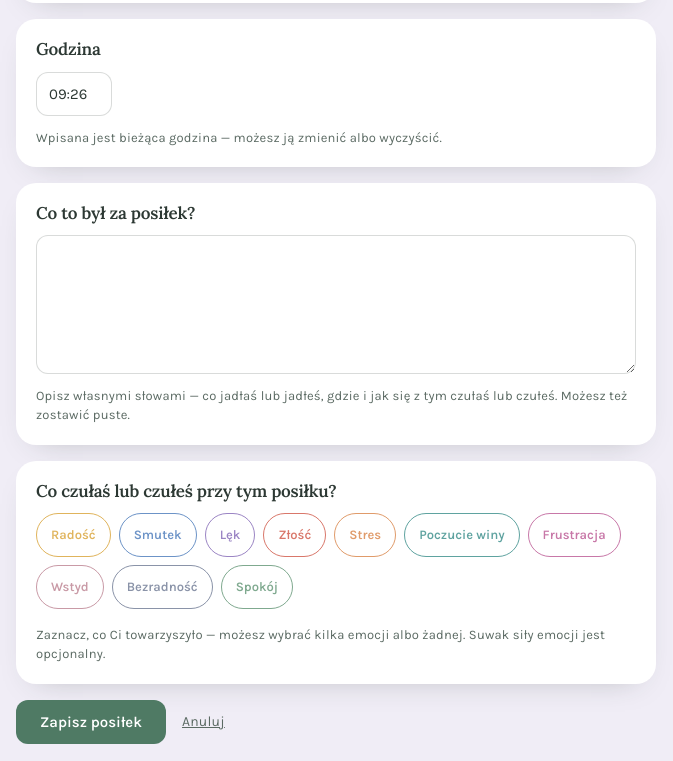
when the write fails › shows the server's own sentence and stays on the form
(page scrolled)
Click the button "Zapisz posiłek" at (91, 722), box x1=16 y1=700 x2=166 y2=744
(page scrolled)
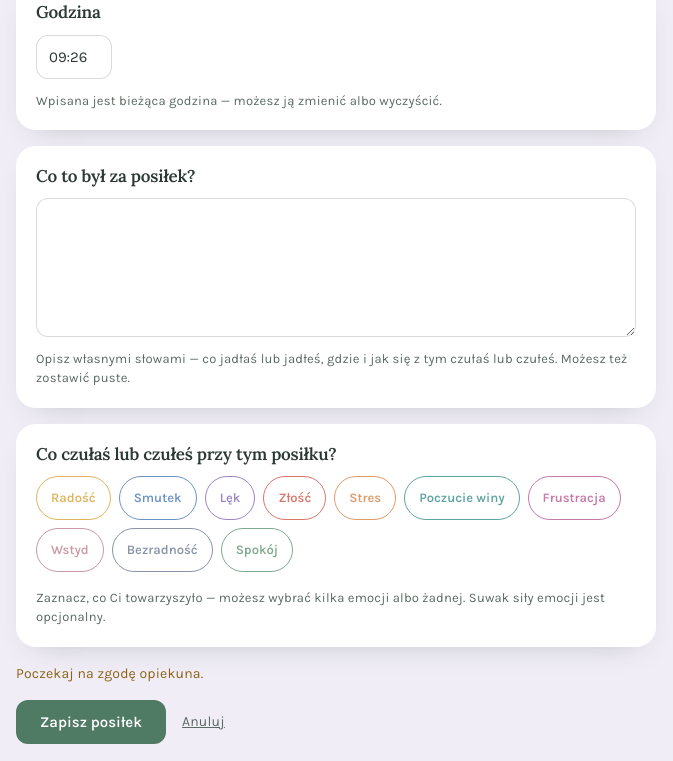
expect the message reads "Poczekaj na zgodę opiekuna.": met, box x1=16 y1=665 x2=203 y2=682
